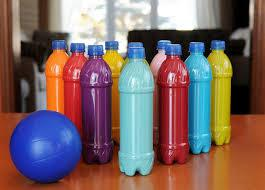Plastic: (119, 46, 155, 179)
